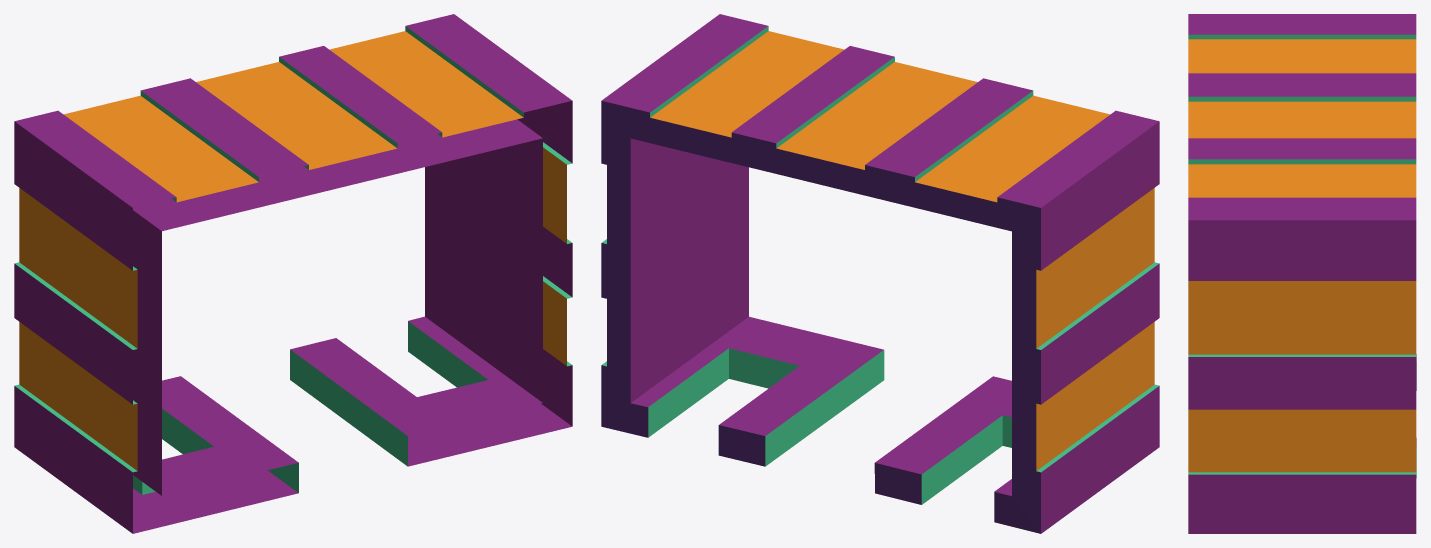
File: Rogatka Warszawska Tier 1.fbx
The picture shows the model from 3 angles, left to right: view 1: azimuth 30°, elevation 25°; view 2: azimuth 150°, elevation 25°; view 3: azimuth 270°, elevation 25°; orthographic projection. The views are drawn at different scales.
Visible parts, largest first — view 1: Rogatka Warszawska; view 2: Rogatka Warszawska; view 3: Rogatka Warszawska.
Part boxes in pixels (bbox=[...]): Rogatka Warszawska: bbox=[14, 14, 572, 533]; Rogatka Warszawska: bbox=[601, 14, 1159, 533]; Rogatka Warszawska: bbox=[1188, 14, 1416, 533].
Size of the model in its own units: 3.36 by 2.38 by 1.57.
